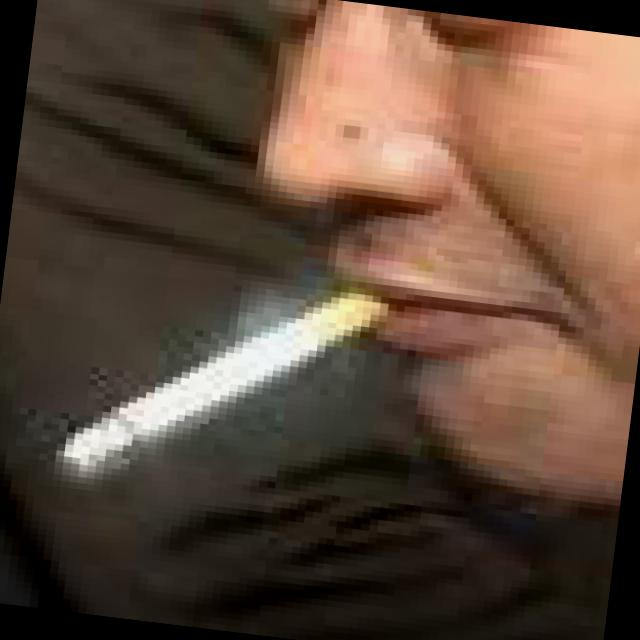cigarette: (56, 246, 396, 512)
